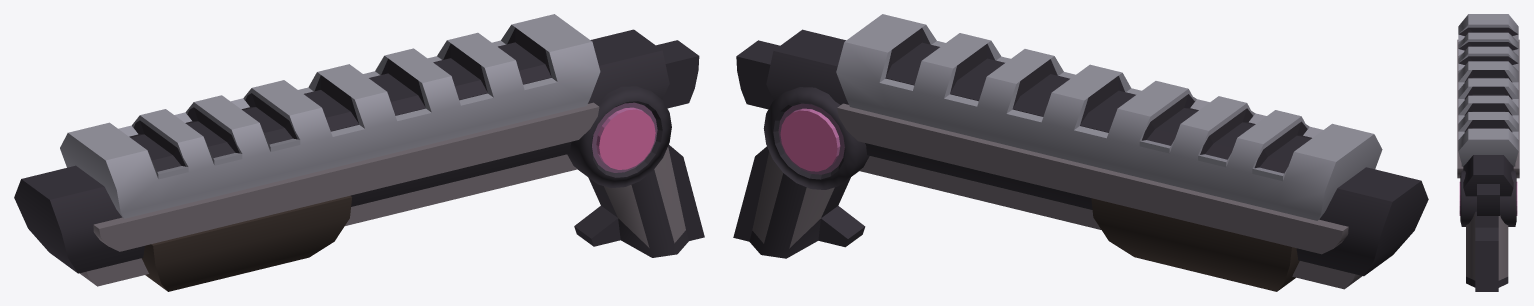
Rendered from Gun2.fbx.
3 views of the same model, side by side, from view 1: azimuth 30°, elevation 25°; view 2: azimuth 150°, elevation 25°; view 3: azimuth 270°, elevation 25° (orthographic). The views are drawn at different scales.
Visible parts, largest first — view 1: pasted__pCube1 (×6), pCube1, pCylinder1; view 2: pasted__pCube1 (×6), pCube1, pCylinder1; view 3: pasted__pCube1 (×4), pCube1, pCylinder1.
Boxes of the visible parts, x1=… form: pasted__pCube1 (×6): x1=60, y1=14, x2=704, y2=291; pCube1: x1=14, y1=29, x2=669, y2=273; pCylinder1: x1=567, y1=86, x2=671, y2=188; pasted__pCube1 (×6): x1=733, y1=14, x2=1382, y2=291; pCube1: x1=766, y1=29, x2=1428, y2=276; pCylinder1: x1=763, y1=87, x2=869, y2=189; pasted__pCube1 (×4): x1=1457, y1=14, x2=1519, y2=291; pCube1: x1=1463, y1=155, x2=1513, y2=196; pCylinder1: x1=1459, y1=170, x2=1517, y2=226.
Bounding box in the file's own units: 14.12 × 4.74 × 2.19.
